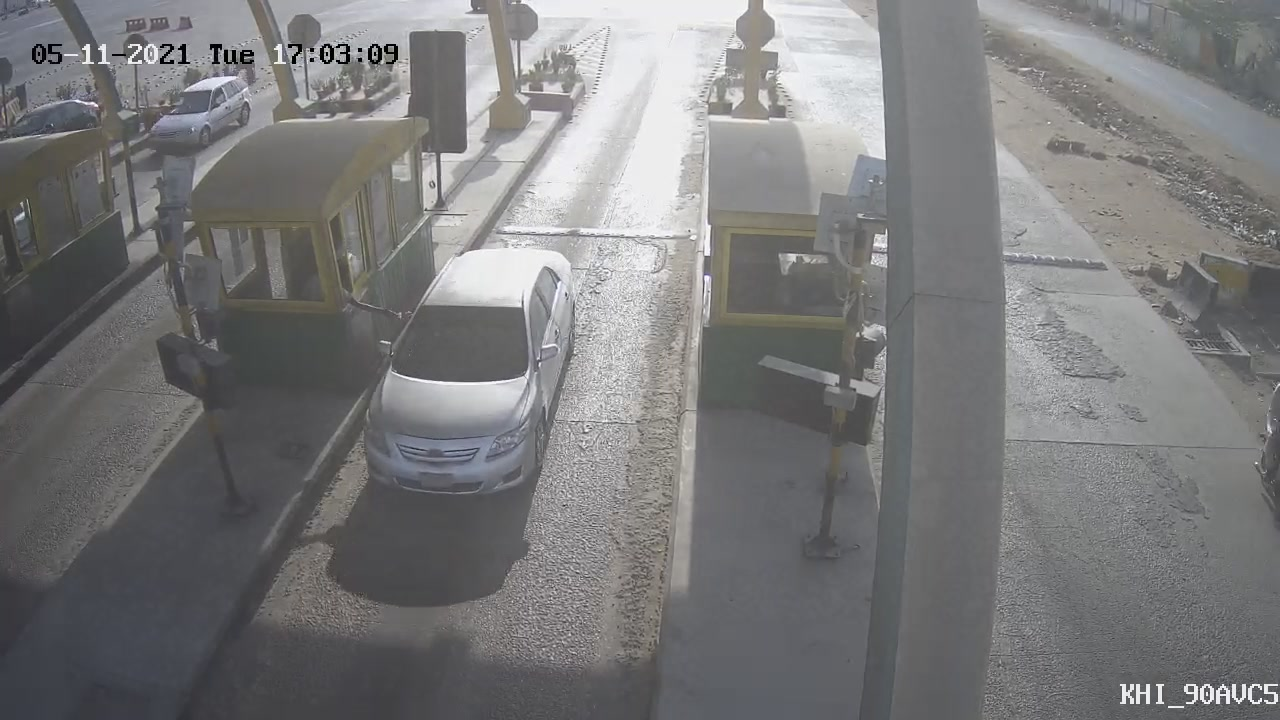F1: (330, 221, 604, 524)
